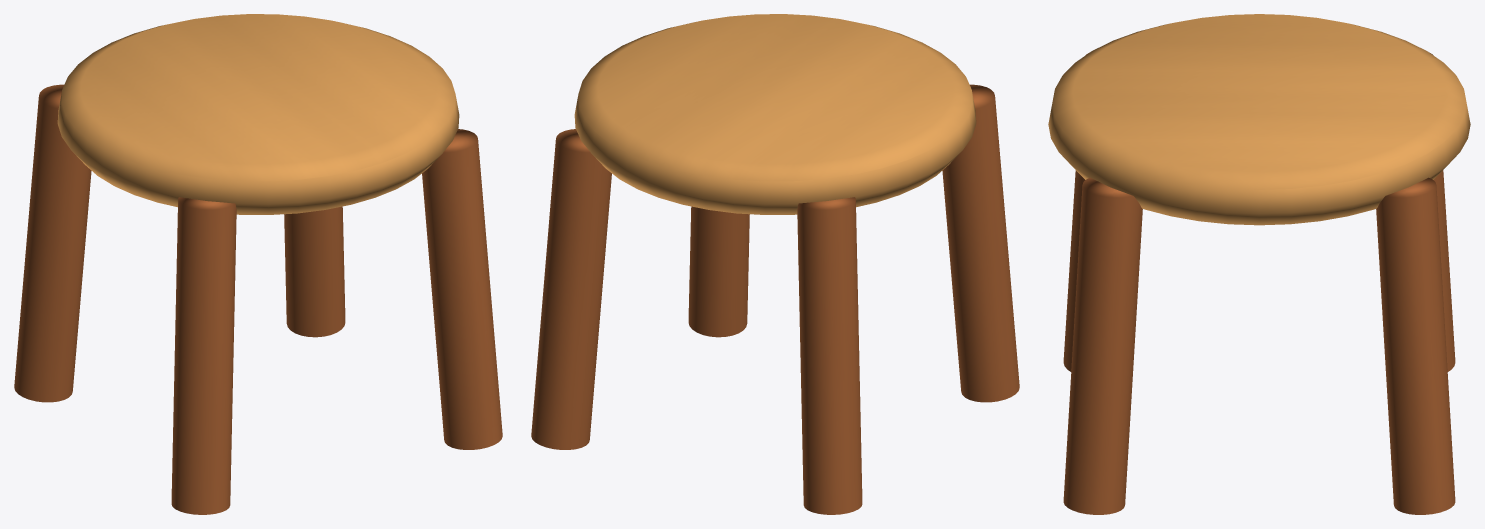
The model's file is STOOL.glb.
The picture shows the model from 3 angles, left to right: view 1: azimuth 30°, elevation 25°; view 2: azimuth 150°, elevation 25°; view 3: azimuth 270°, elevation 25°; orthographic projection. The views are drawn at different scales.
Parts seen in each view (by area): view 1: STOOL; view 2: STOOL; view 3: STOOL.
Boxes of the visible parts, x1,y1,x2,y2 form: STOOL: [14, 14, 502, 514]; STOOL: [531, 14, 1019, 514]; STOOL: [1048, 14, 1470, 514].
Bounding box in the file's own units: 0.52 × 0.466 × 0.52.
Materials: 2 (2 with a texture image).
